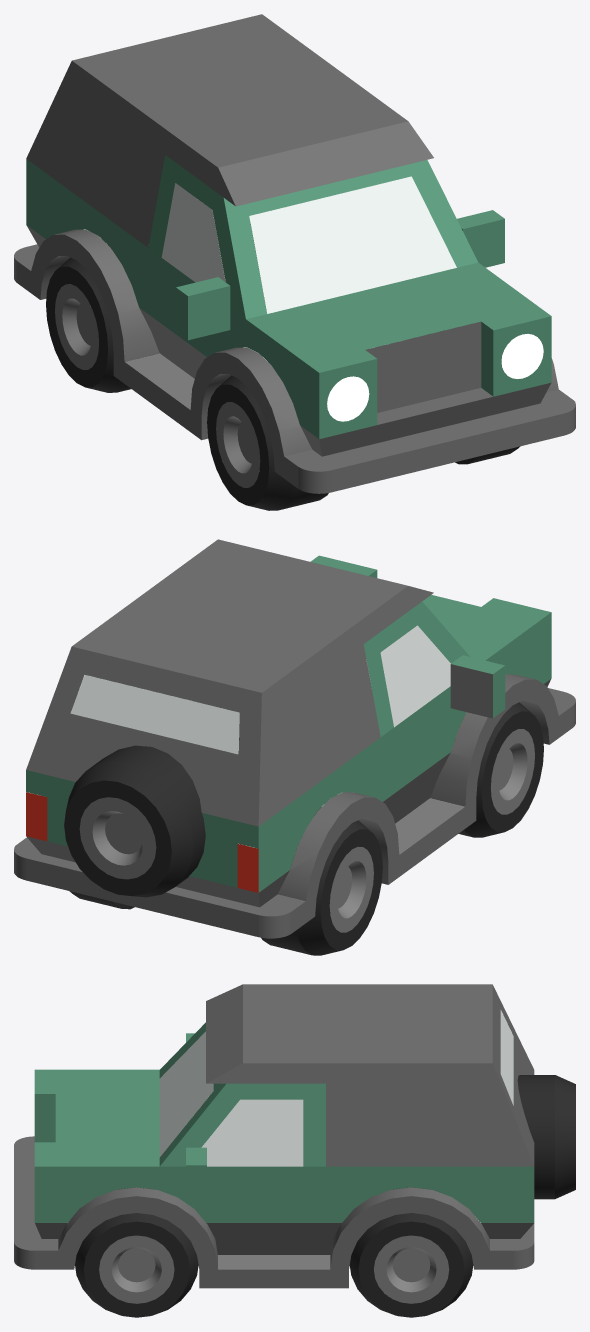
Rendered from suv.glb.
3 views of the same model, one above another, from view 1: azimuth 30°, elevation 25°; view 2: azimuth 150°, elevation 25°; view 3: azimuth 270°, elevation 25° (orthographic). The views are drawn at different scales.
Visible parts, largest first — view 1: Mesh body.001, wheel_frontRight, wheel_backRight; view 2: Mesh body.001, wheel_back, wheel_backRight, wheel_frontRight; view 3: Mesh body.001, wheel_frontLeft, wheel_backLeft, wheel_back.
Part boxes in pixels (x1=…): Mesh body.001: x1=14, y1=14, x2=575, y2=493; wheel_frontRight: x1=207, y1=375, x2=328, y2=510; wheel_backRight: x1=46, y1=244, x2=153, y2=392; Mesh body.001: x1=14, y1=539, x2=575, y2=938; wheel_back: x1=64, y1=745, x2=205, y2=897; wheel_backRight: x1=261, y1=807, x2=382, y2=955; wheel_frontRight: x1=441, y1=702, x2=543, y2=837; Mesh body.001: x1=14, y1=984, x2=534, y2=1288; wheel_frontLeft: x1=75, y1=1187, x2=198, y2=1317; wheel_backLeft: x1=349, y1=1187, x2=473, y2=1317; wheel_back: x1=517, y1=1075, x2=575, y2=1199.
Size of the model in its own units: 1.5 by 1.3 by 2.7.
Materials: 4 (4 with a texture image).
